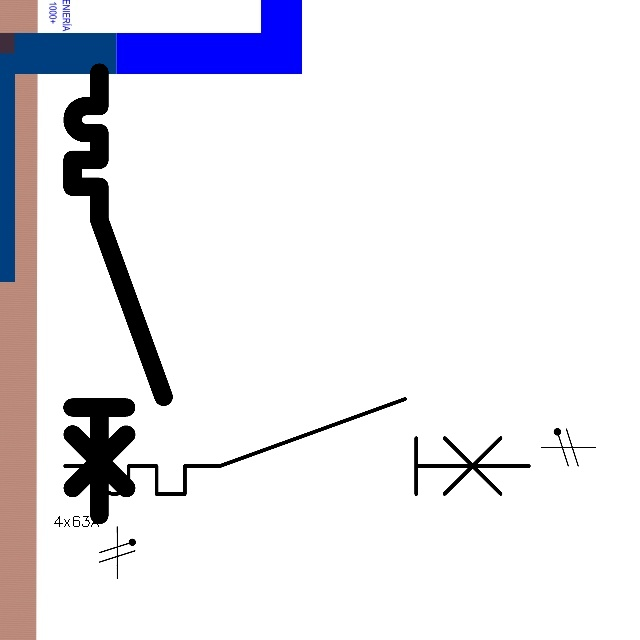interruptor_termomagnetico: (53, 387, 541, 506), (61, 61, 175, 526)
